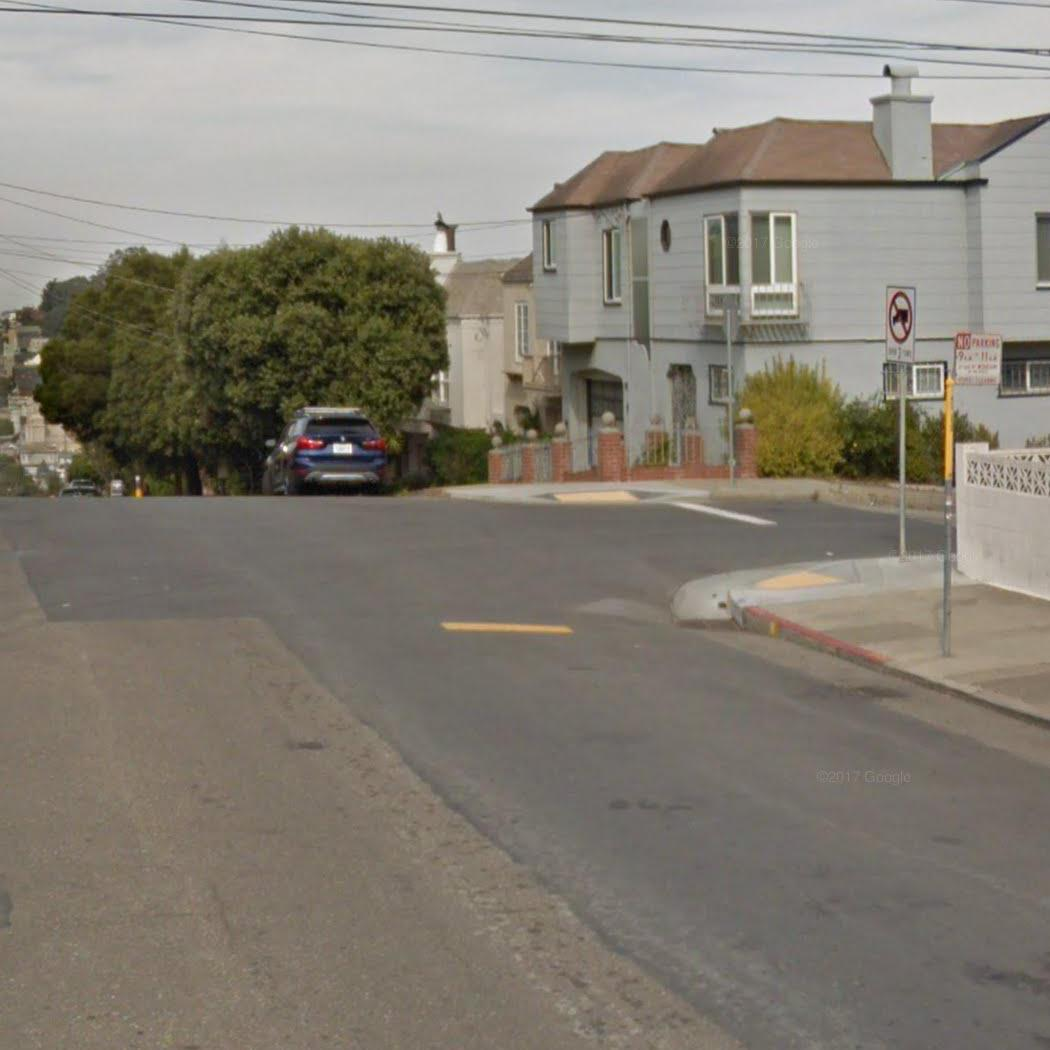No Parking: (953, 329, 1005, 387)
